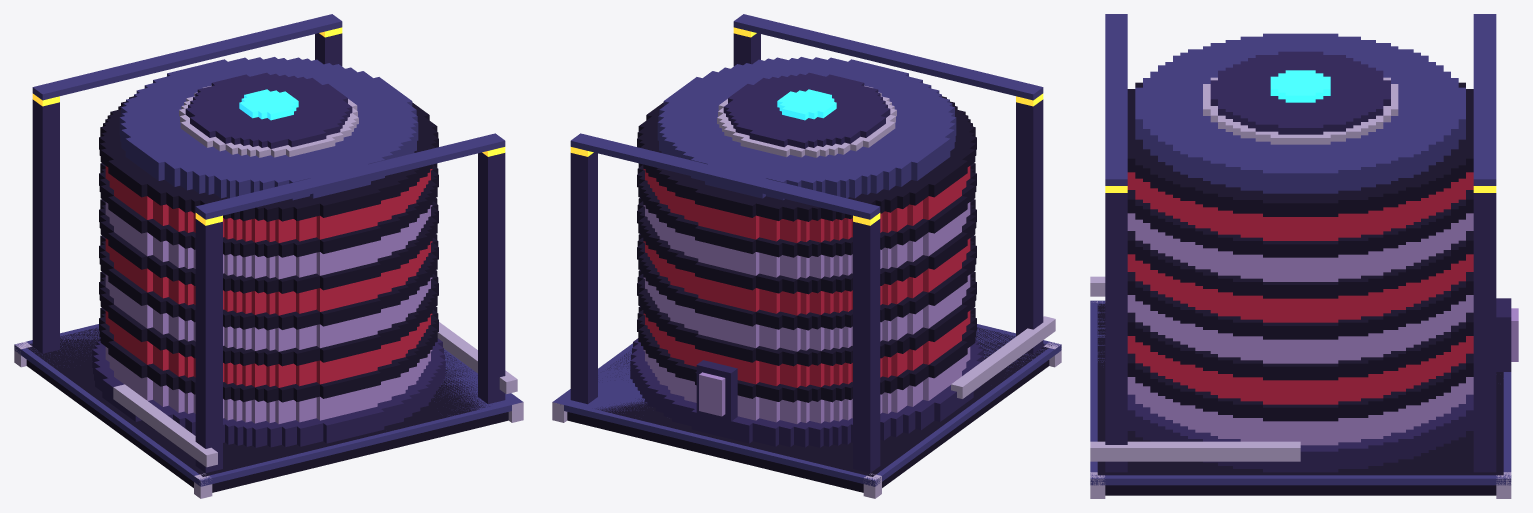
The model's file is reactor.lg.glb.
3 renders of one model, left to right at view 1: azimuth 30°, elevation 25°; view 2: azimuth 150°, elevation 25°; view 3: azimuth 270°, elevation 25°, orthographic. The views are drawn at different scales.
Visible parts, largest first — view 1: reactor.lg; view 2: reactor.lg; view 3: reactor.lg.
Part boxes in pixels (<box>): reactor.lg: <box>14,14,523,498</box>; reactor.lg: <box>552,14,1061,498</box>; reactor.lg: <box>1090,14,1518,498</box>.
Bounding box in the file's own units: 3.5 × 3 × 3.56.
